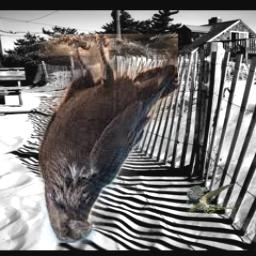Crow: (39, 35, 179, 244)
Swallow: (187, 184, 236, 215)
